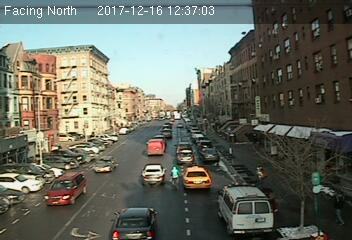bicycle: (168, 165, 181, 191)
car: (110, 206, 160, 240), (44, 172, 84, 205), (183, 166, 211, 189), (142, 163, 168, 187), (94, 157, 118, 172), (145, 139, 165, 155), (200, 148, 221, 163), (176, 148, 194, 163), (160, 127, 173, 136)
police: (216, 180, 275, 233)
